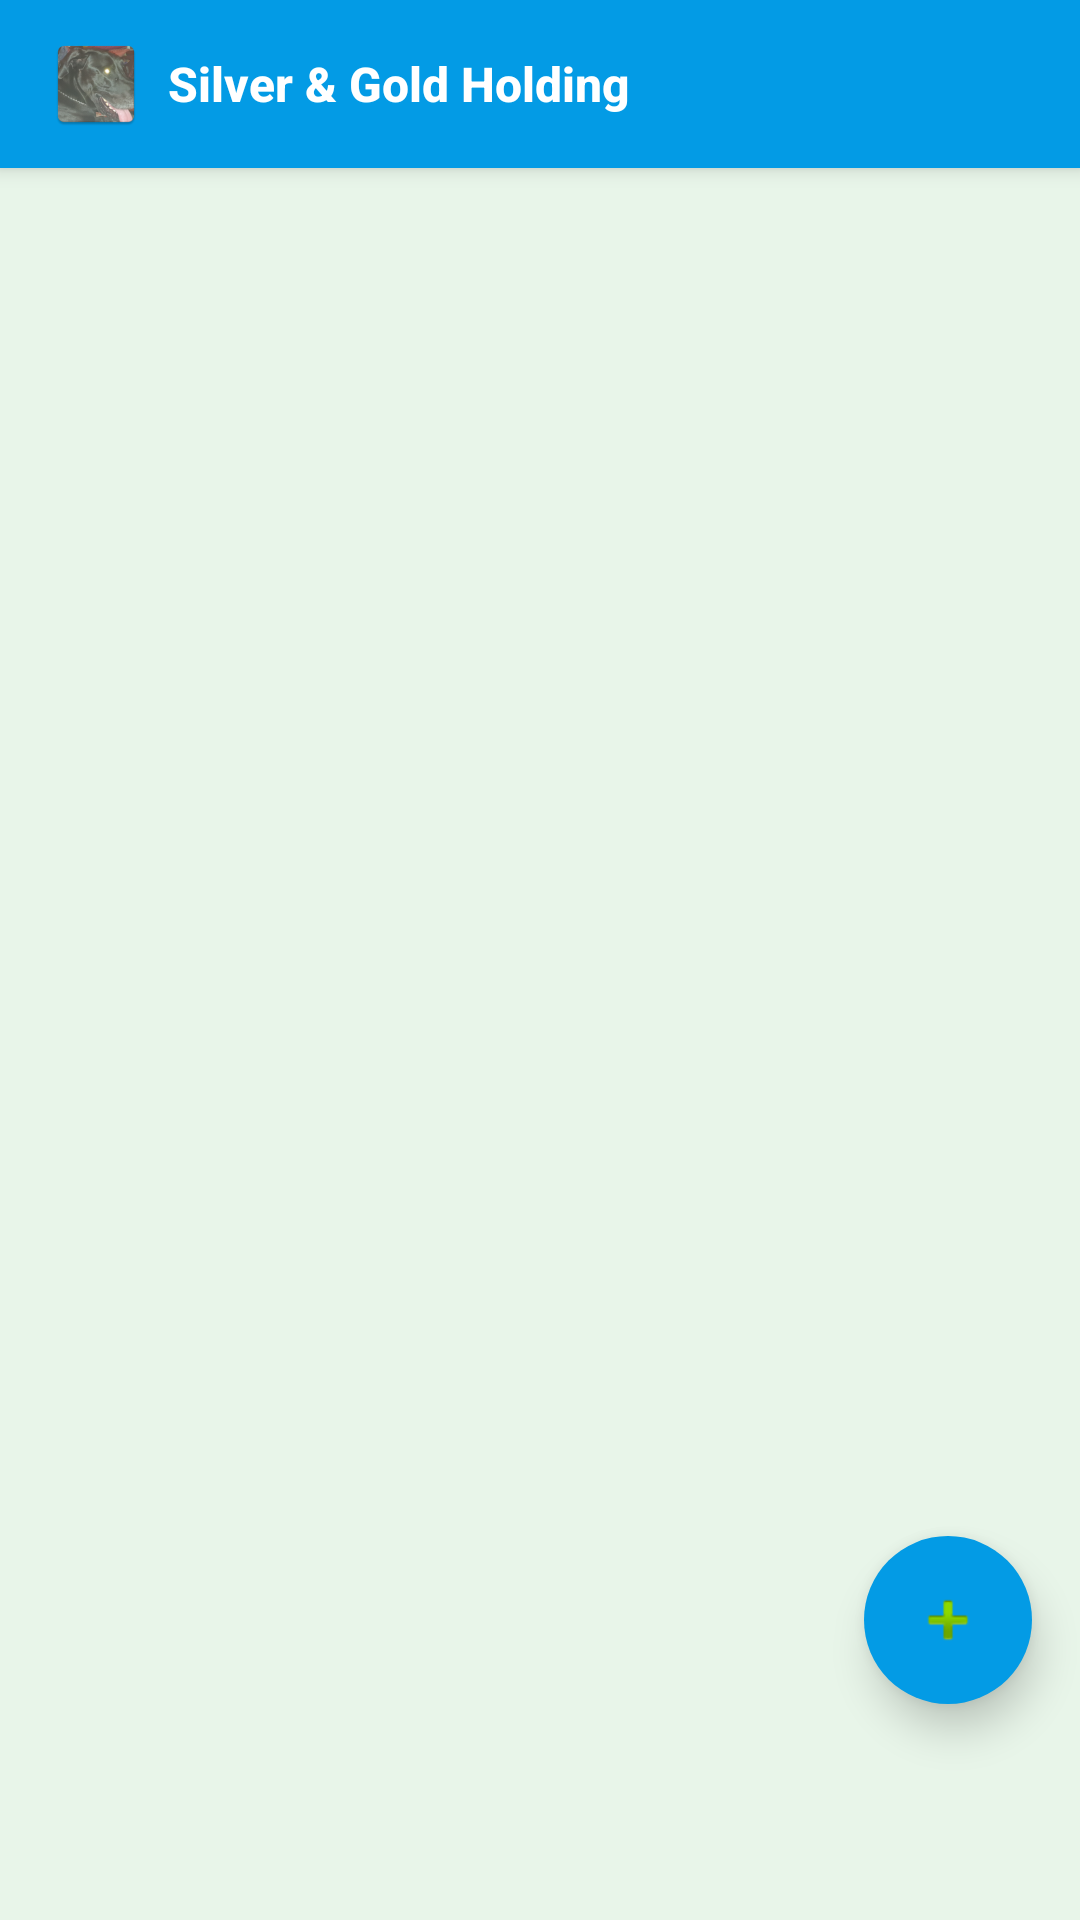

Icons on this 1080*1920 Android screen, each with its box as (x1, y1, x2, y2):
Add new item: (864, 1536, 1034, 1724)
